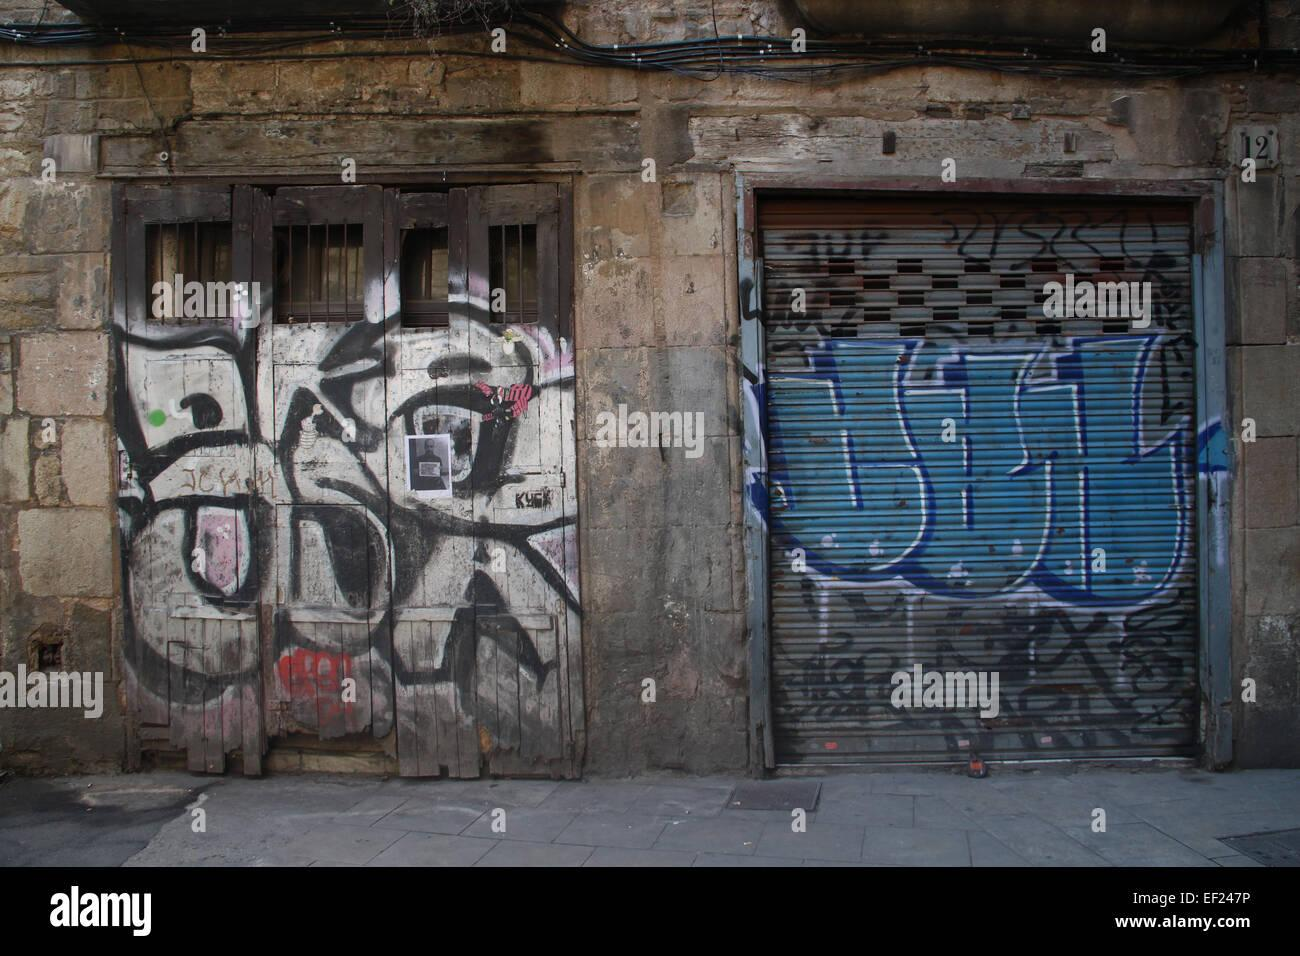graffiti: (119, 323, 582, 776), (766, 334, 1190, 607), (766, 206, 1196, 355), (778, 661, 1193, 763), (939, 601, 1193, 696)
